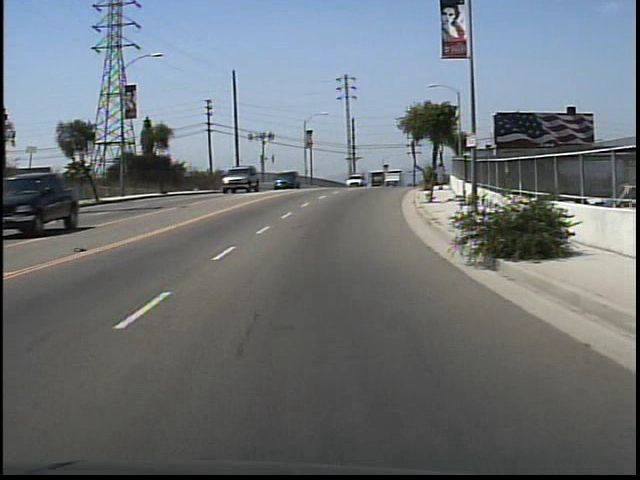person: (435, 162, 447, 192)
